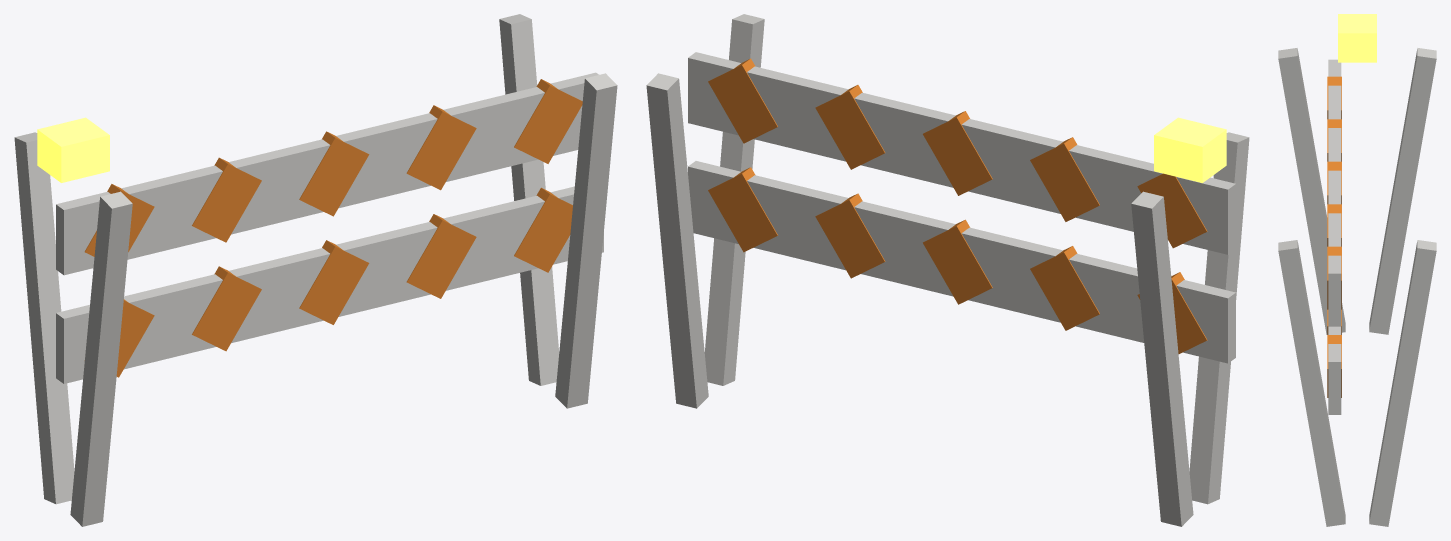
The model's file is a_barrier.glb.
The picture shows the model from 3 angles, left to right: view 1: azimuth 30°, elevation 25°; view 2: azimuth 150°, elevation 25°; view 3: azimuth 270°, elevation 25°; orthographic projection. The views are drawn at different scales.
Visible parts, largest first — view 1: a_barrier; view 2: a_barrier; view 3: a_barrier.
Boxes of the visible parts, <box> form: a_barrier: <box>14,14,617,526</box>; a_barrier: <box>646,14,1249,526</box>; a_barrier: <box>1278,14,1436,526</box>.
Size of the model in its own units: 1.56 by 1.04 by 0.4879.
